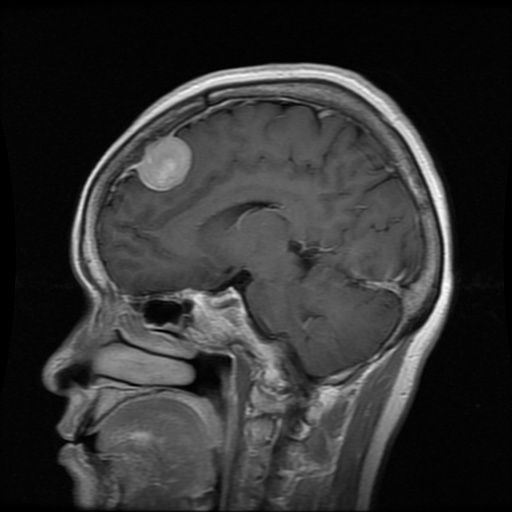meningioma: (137, 136, 192, 191)
